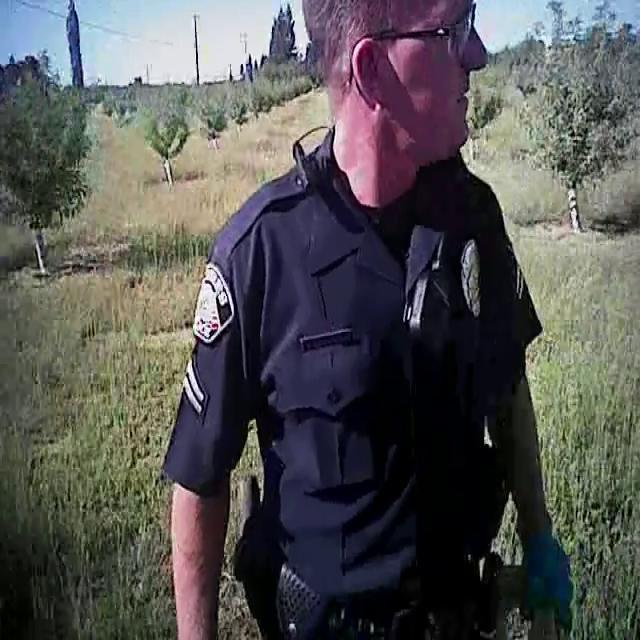gun: (225, 465, 277, 631)
